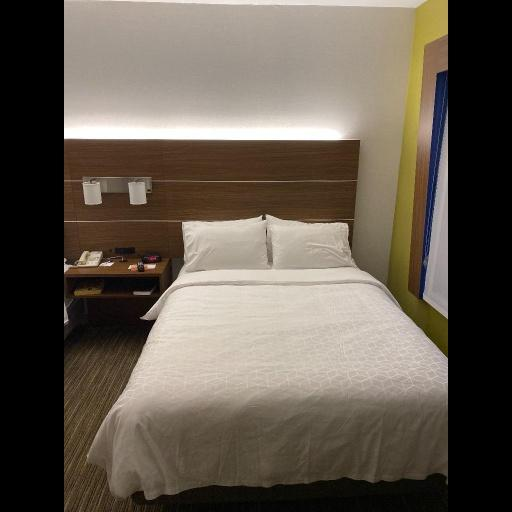clean_bed: (110, 144, 448, 512)
organised_pillow: (183, 218, 350, 267)
